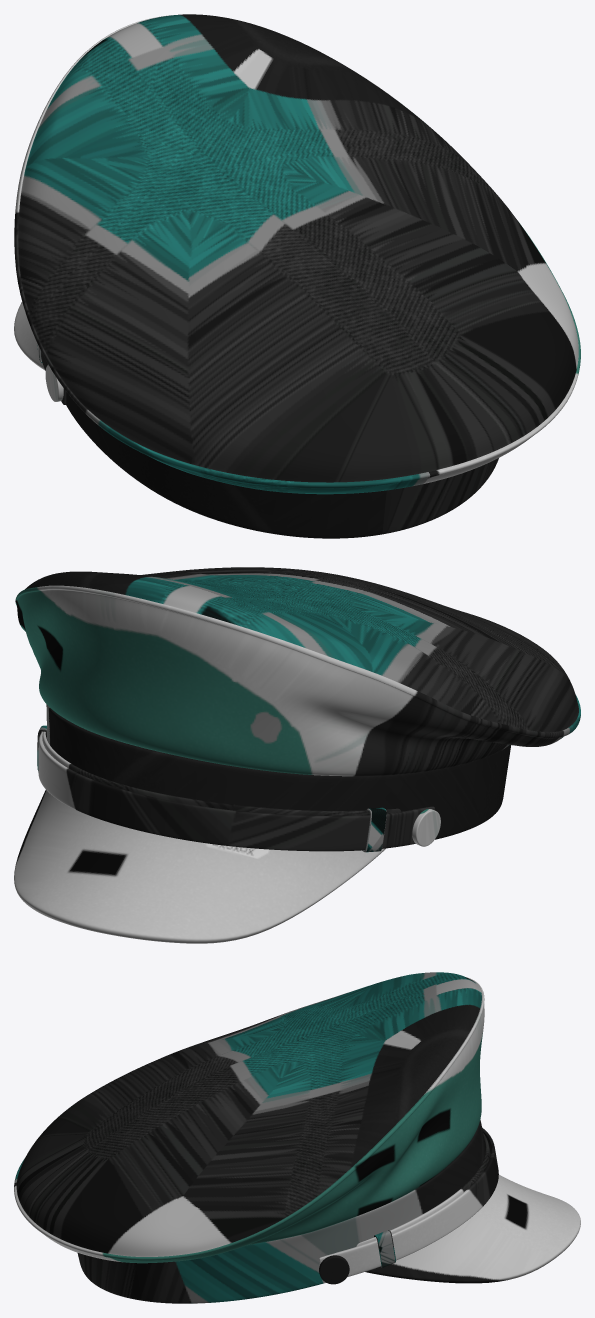
The model's file is militaryHat.gltf.
3 views of the same model, one above another, from view 1: azimuth 30°, elevation 25°; view 2: azimuth 150°, elevation 25°; view 3: azimuth 270°, elevation 25° (orthographic). The views are drawn at different scales.
Visible parts, largest first — view 1: militaryHat; view 2: militaryHat; view 3: militaryHat.
Boxes of the visible parts, x1,y1,x2,y2 form: militaryHat: (14,14,580,538); militaryHat: (14,567,580,943); militaryHat: (14,972,580,1303).
Bounding box in the file's own units: 1.5 × 0.9779 × 1.89.
